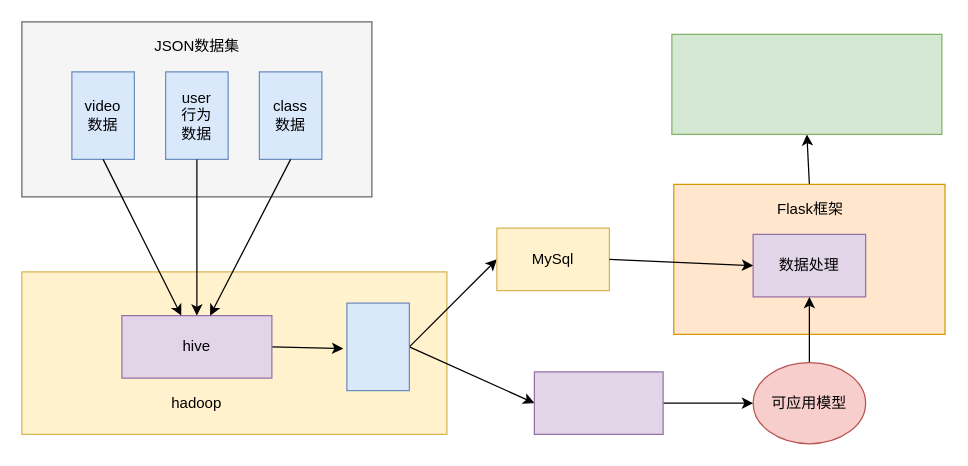
This 968x466 diagram has some shape labels left out. Each missing label, with the centre of its shape:
CSV 数据: point (377, 346)
微信小程序 前端: point (806, 83)
模型训练: point (598, 402)
